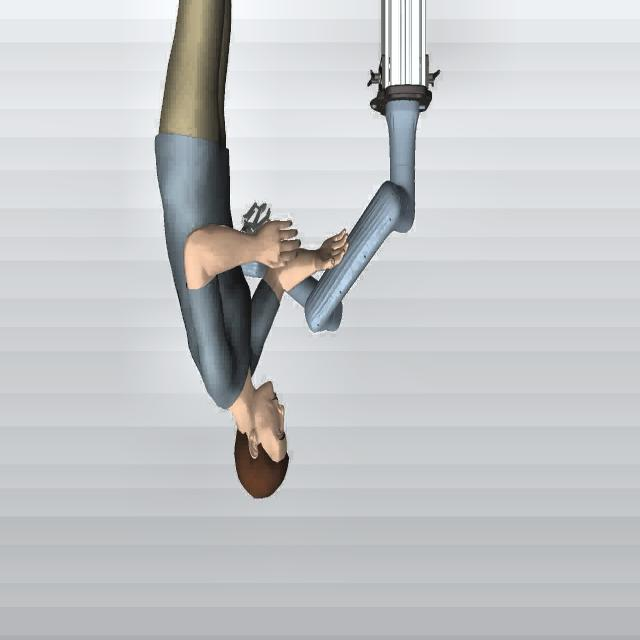human: (154, 2, 350, 501)
robot: (302, 2, 442, 336)
